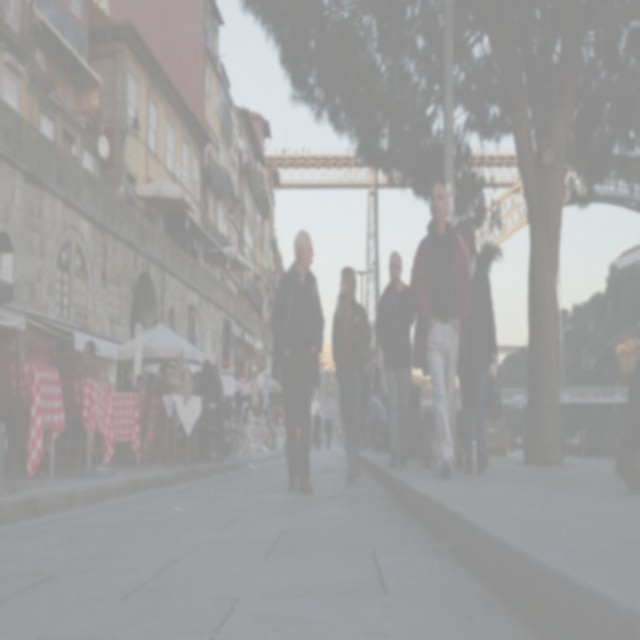pessoa: (410, 181, 472, 480), (270, 230, 324, 498), (450, 217, 499, 479), (375, 249, 418, 468), (331, 265, 372, 483), (196, 358, 234, 462), (128, 372, 150, 462), (364, 390, 388, 454), (210, 362, 225, 460), (314, 374, 342, 426), (560, 382, 626, 402), (496, 388, 529, 407), (370, 348, 382, 400), (234, 376, 244, 430), (265, 398, 284, 426), (118, 364, 134, 394), (358, 409, 368, 454), (153, 362, 165, 398), (324, 409, 334, 452), (82, 340, 98, 364), (314, 407, 322, 452), (419, 390, 433, 410), (377, 386, 387, 410), (454, 390, 462, 410)
